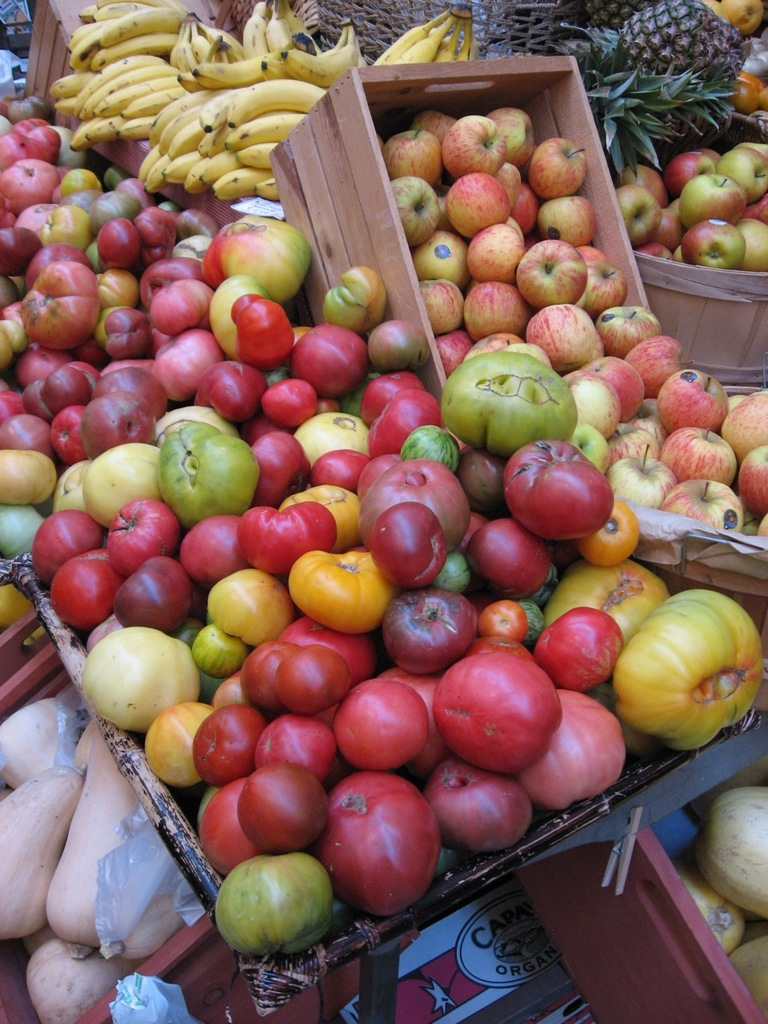Apple: (373, 99, 767, 536), (614, 138, 767, 268), (315, 777, 444, 903)
